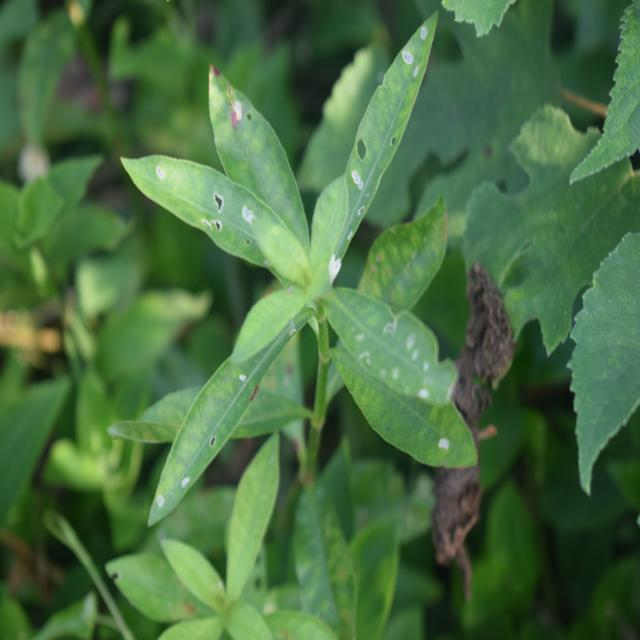Alligatorweed: (128, 56, 484, 485)
